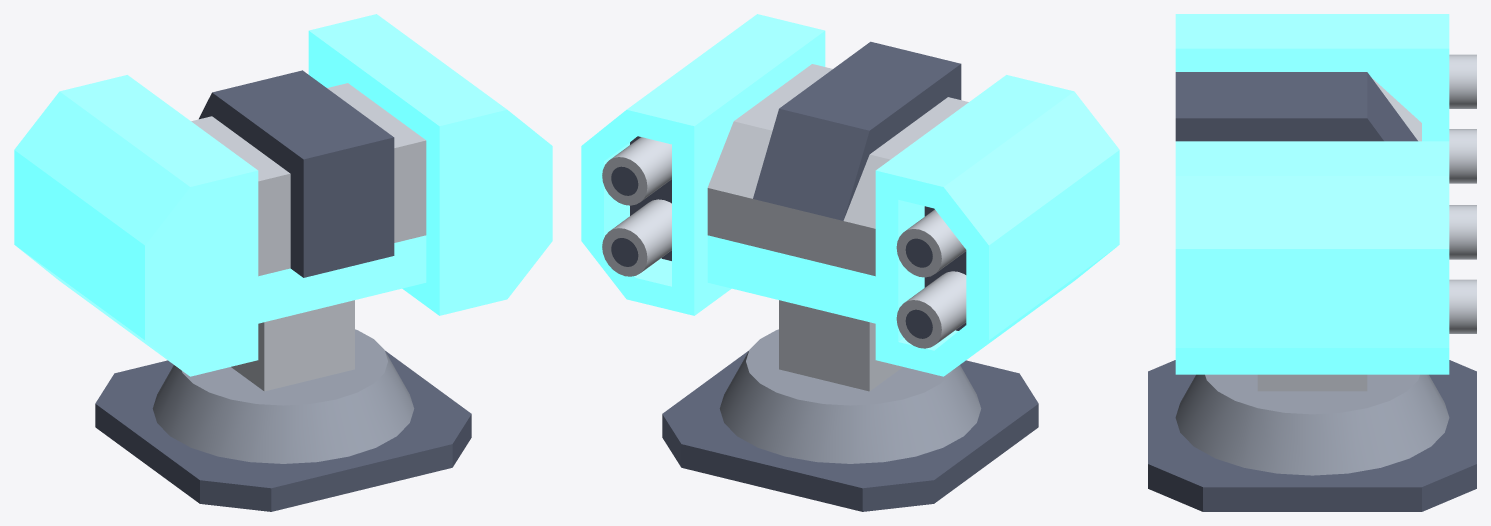
The model's file is turret_double.glb.
3 views of the same model, side by side, from view 1: azimuth 30°, elevation 25°; view 2: azimuth 150°, elevation 25°; view 3: azimuth 270°, elevation 25° (orthographic). The views are drawn at different scales.
Visible parts, largest first — view 1: turret, turret_double; view 2: turret, turret_double; view 3: turret, turret_double.
Boxes of the visible parts, x1,y1,x2,y2 form: turret: [14, 14, 552, 376]; turret_double: [95, 300, 471, 511]; turret: [581, 14, 1119, 376]; turret_double: [662, 300, 1038, 511]; turret: [1175, 14, 1476, 374]; turret_double: [1148, 360, 1476, 511].
Size of the model in its own units: 0.9 by 0.7 by 0.6.
